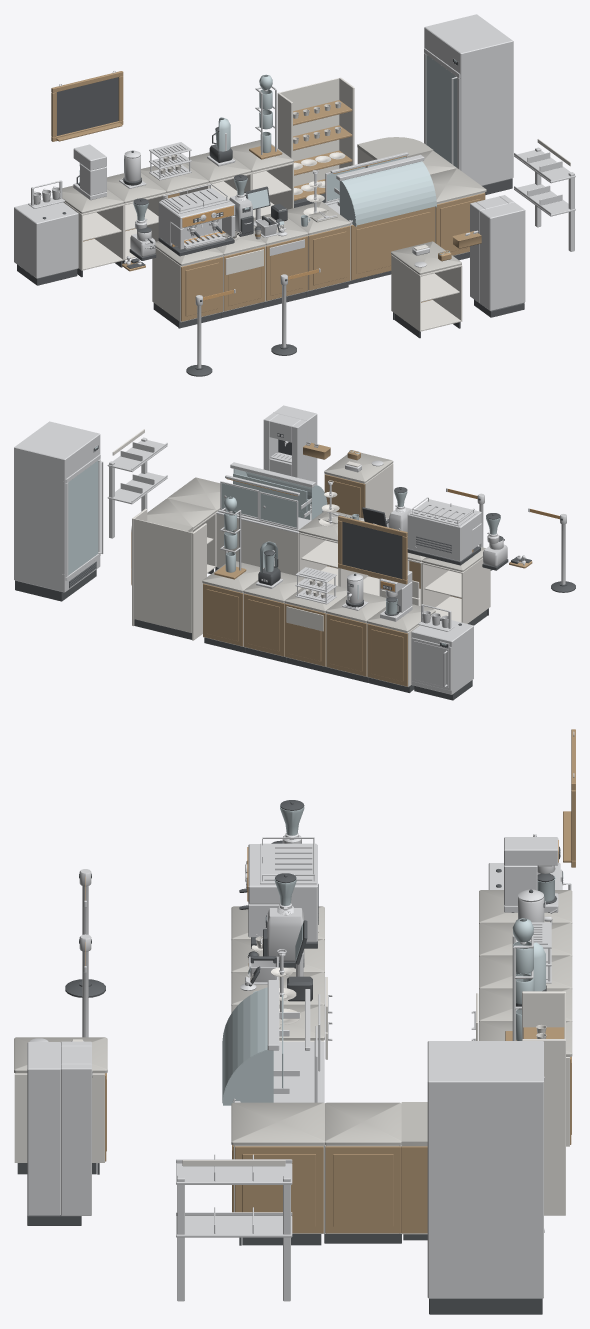
The model's file is shop and objects model.glb.
3 views of the same model, one above another, from view 1: azimuth 30°, elevation 25°; view 2: azimuth 150°, elevation 25°; view 3: azimuth 270°, elevation 25° (orthographic). The views are drawn at different scales.
Visible parts, largest first — view 1: 028-grab-and-go-chiller/1, 030-water-station/1, 021-crockery-shelf-unit/0, 004-pastry-case-curved/4, 015-milk-fridge-undercounter/1, 029-condiment-bar/0, 028-grab-and-go-chiller/door (×2), 004-pastry-case-curved/2, 008-espresso-machine-2-group/1, 034-order-collection-shelf/0, 035-menu-board-chalk-frame/1, 016-counter-module-600/0 (+37 smaller); view 2: 028-grab-and-go-chiller/1, 021-crockery-shelf-unit/0, 028-grab-and-go-chiller/door (×2), 008-espresso-machine-2-group/1, 000-counter-module-600/0, 030-water-station/1, 035-menu-board-chalk-frame/1, 004-pastry-case-curved/1, 034-order-collection-shelf/0, 015-milk-fridge-undercounter/1, 019-counter-module-600/2, 016-counter-module-600/2 (+39 smaller); view 3: 028-grab-and-go-chiller/1, 030-water-station/1, 034-order-collection-shelf/0, 006-counter-module-600/2, 021-crockery-shelf-unit/0, 008-espresso-machine-2-group/1, 004-pastry-case-curved/4, 005-counter-corner/2, 004-pastry-case-curved/3, 005-counter-corner/3, 006-counter-module-600/3, 022-batch-brewer/1 (+23 smaller).
Part boxes in pixels (x1=…): 028-grab-and-go-chiller/1: x1=424, y1=14, x2=513, y2=185; 030-water-station/1: x1=470, y1=195, x2=525, y2=310; 021-crockery-shelf-unit/0: x1=277, y1=77, x2=354, y2=194; 004-pastry-case-curved/4: x1=339, y1=161, x2=436, y2=226; 015-milk-fridge-undercounter/1: x1=14, y1=202, x2=78, y2=278; 029-condiment-bar/0: x1=391, y1=244, x2=462, y2=331; 028-grab-and-go-chiller/door (×2): x1=424, y1=48, x2=460, y2=169; 004-pastry-case-curved/2: x1=351, y1=206, x2=435, y2=280; 008-espresso-machine-2-group/1: x1=158, y1=184, x2=235, y2=249; 034-order-collection-shelf/0: x1=514, y1=147, x2=575, y2=251; 035-menu-board-chalk-frame/1: x1=57, y1=77, x2=118, y2=135; 016-counter-module-600/0: x1=63, y1=201, x2=124, y2=270; 028-grab-and-go-chiller/1: x1=14, y1=421, x2=100, y2=592; 021-crockery-shelf-unit/0: x1=132, y1=508, x2=206, y2=640; 028-grab-and-go-chiller/door (×2): x1=65, y1=454, x2=103, y2=580; 008-espresso-machine-2-group/1: x1=407, y1=497, x2=481, y2=561; 000-counter-module-600/0: x1=422, y1=558, x2=490, y2=623; 030-water-station/1: x1=263, y1=405, x2=317, y2=504; 035-menu-board-chalk-frame/1: x1=342, y1=521, x2=402, y2=579; 004-pastry-case-curved/1: x1=216, y1=514, x2=298, y2=576; 034-order-collection-shelf/0: x1=107, y1=437, x2=167, y2=538; 015-milk-fridge-undercounter/1: x1=411, y1=617, x2=473, y2=694; 019-counter-module-600/2: x1=244, y1=593, x2=284, y2=656; 016-counter-module-600/2: x1=367, y1=623, x2=407, y2=686; 028-grab-and-go-chiller/1: x1=427, y1=1041, x2=544, y2=1298; 030-water-station/1: x1=27, y1=1041, x2=92, y2=1215; 034-order-collection-shelf/0: x1=176, y1=1154, x2=292, y2=1301; 006-counter-module-600/2: x1=325, y1=1146, x2=401, y2=1233; 021-crockery-shelf-unit/0: x1=522, y1=991, x2=565, y2=1215; 008-espresso-machine-2-group/1: x1=245, y1=837, x2=318, y2=942; 004-pastry-case-curved/4: x1=222, y1=987, x2=283, y2=1105; 005-counter-corner/2: x1=232, y1=1145, x2=323, y2=1233; 004-pastry-case-curved/3: x1=232, y1=980, x2=324, y2=1102; 005-counter-corner/3: x1=231, y1=1102, x2=324, y2=1145; 006-counter-module-600/3: x1=325, y1=1102, x2=401, y2=1145; 022-batch-brewer/1: x1=504, y1=837, x2=560, y2=912.
Bounding box in the file's own units: 6.47 × 2.3 × 4.35.
